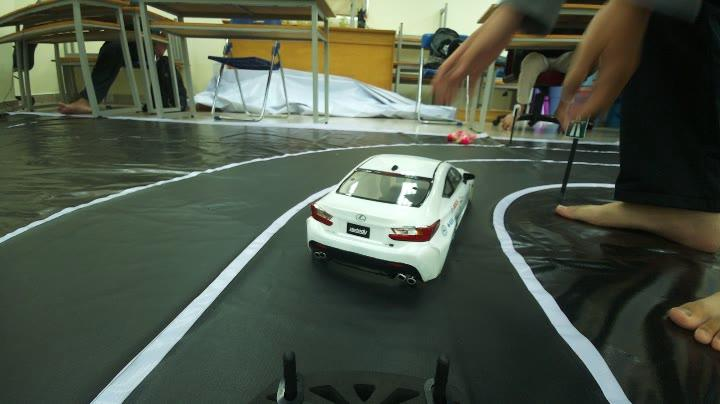car: (308, 157, 464, 286)
